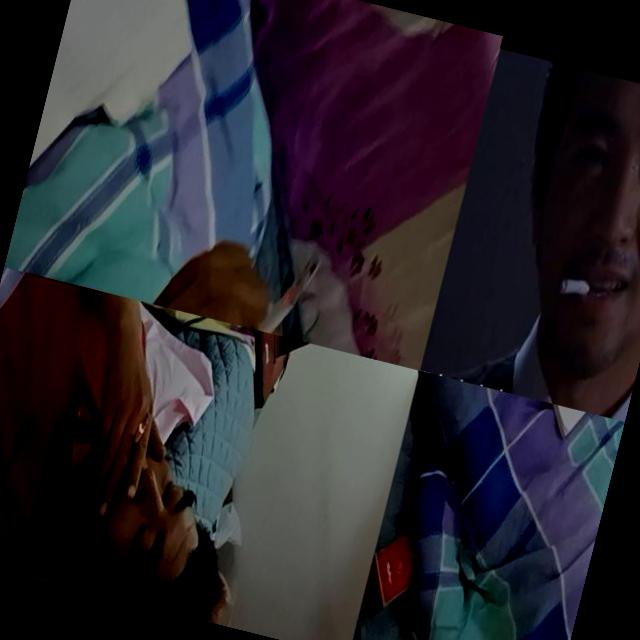cigarette: (242, 242, 324, 340), (128, 410, 151, 458), (556, 276, 594, 302)
